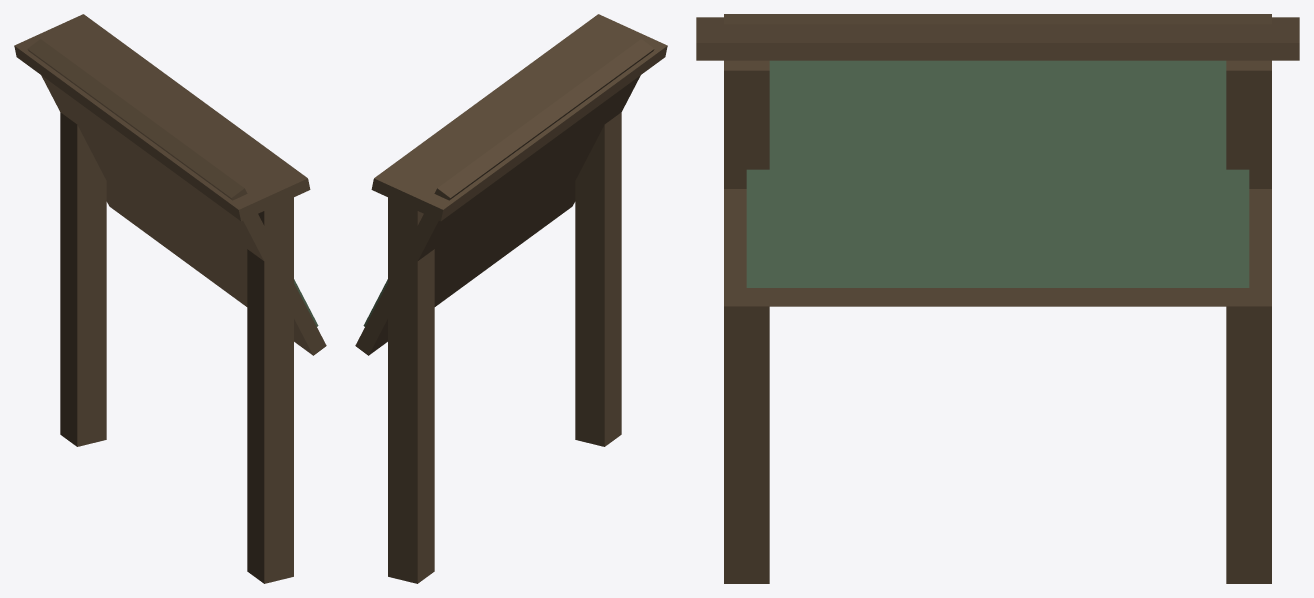
Rendered from SM_Prop_info_board_0.glb.
3 renders of one model, left to right at view 1: azimuth 30°, elevation 25°; view 2: azimuth 150°, elevation 25°; view 3: azimuth 270°, elevation 25°, orthographic. The views are drawn at different scales.
Visible parts, largest first — view 1: SM_Prop_info_board_0; view 2: SM_Prop_info_board_0; view 3: SM_Prop_info_board_0.
Part boxes in pixels (x1=…): SM_Prop_info_board_0: x1=14, y1=14, x2=326, y2=583; SM_Prop_info_board_0: x1=355, y1=14, x2=667, y2=583; SM_Prop_info_board_0: x1=696, y1=14, x2=1299, y2=583.
Size of the model in its own units: 0.3342 by 1.31 by 1.32.
